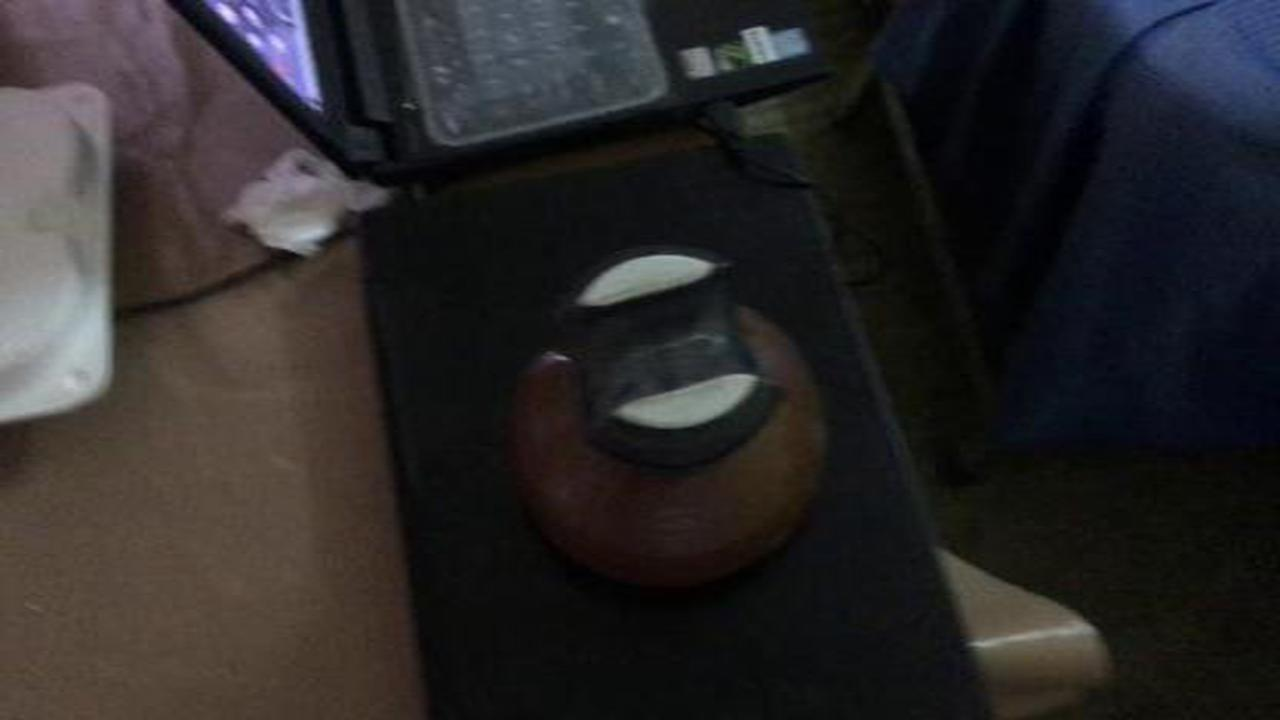insulator_pin: (471, 239, 847, 624)
